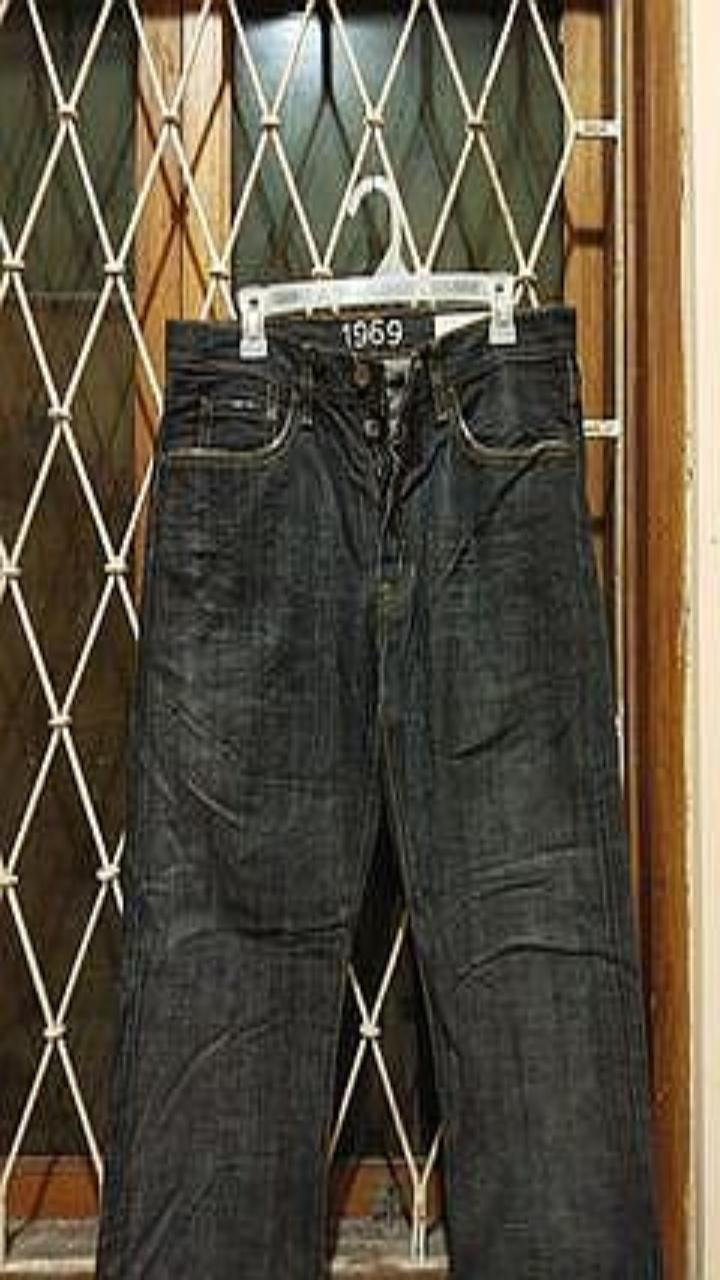Jeans: (98, 307, 660, 1279)
